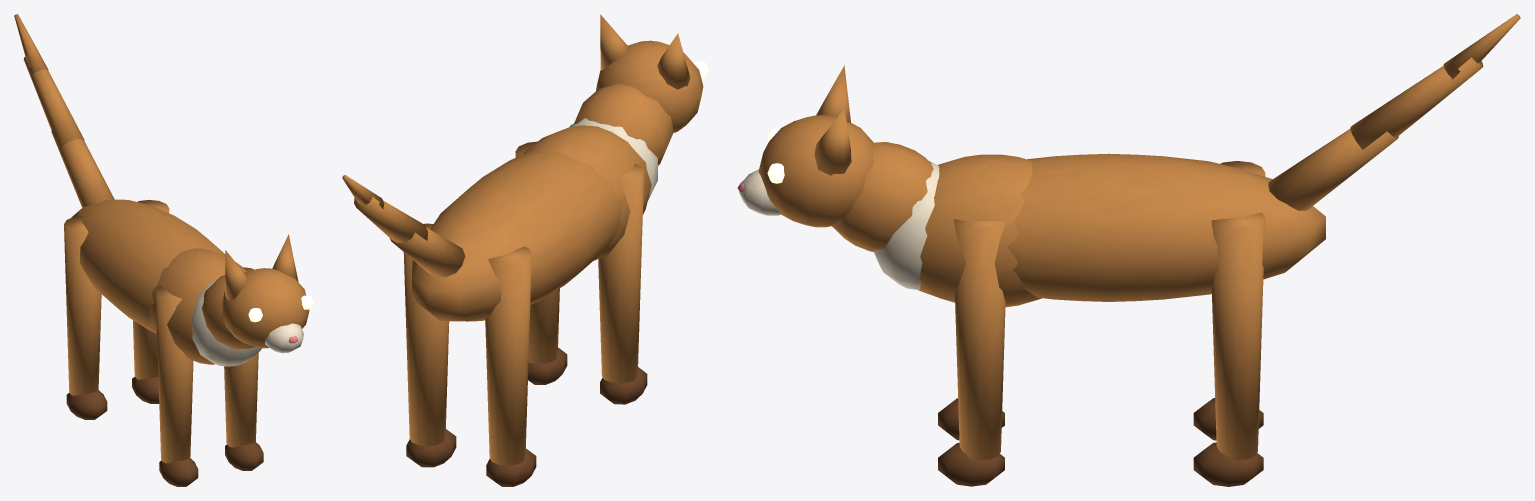
Rendered from animal_cat.glb.
3 views of the same model, side by side, from view 1: azimuth 30°, elevation 25°; view 2: azimuth 150°, elevation 25°; view 3: azimuth 270°, elevation 25° (orthographic). The views are drawn at different scales.
Visible parts, largest first — view 1: animal_cat_body, animal_cat_leg_BL, animal_cat_leg_FL, animal_cat_head, animal_cat_chest, animal_cat_leg_FR, animal_cat_tail0, animal_cat_tail1, animal_cat_ruff, animal_cat_leg_BR, animal_cat_neck, animal_cat_paw_BL (+7 smaller); view 2: animal_cat_body, animal_cat_leg_BL, animal_cat_leg_FL, animal_cat_leg_BR, animal_cat_chest, animal_cat_head, animal_cat_neck, animal_cat_leg_FR, animal_cat_tail0, animal_cat_tail1, animal_cat_ear_L, animal_cat_paw_BR (+6 smaller); view 3: animal_cat_body, animal_cat_leg_BR, animal_cat_leg_FR, animal_cat_chest, animal_cat_head, animal_cat_neck, animal_cat_tail0, animal_cat_tail1, animal_cat_ruff, animal_cat_paw_BR, animal_cat_paw_FR, animal_cat_ear_R (+3 smaller).
Boxes of the visible parts, <box> form: animal_cat_body: <box>71,199,225,332</box>; animal_cat_leg_BL: <box>64,216,101,395</box>; animal_cat_leg_FL: <box>155,286,193,463</box>; animal_cat_head: <box>221,268,309,348</box>; animal_cat_chest: <box>149,248,246,364</box>; animal_cat_leg_FR: <box>224,267,258,447</box>; animal_cat_tail0: <box>51,129,114,207</box>; animal_cat_tail1: <box>23,55,84,147</box>; animal_cat_ruff: <box>191,278,262,366</box>; animal_cat_leg_BR: <box>133,199,169,379</box>; animal_cat_neck: <box>201,272,255,348</box>; animal_cat_paw_BL: <box>66,390,107,419</box>; animal_cat_body: <box>412,151,622,321</box>; animal_cat_leg_BL: <box>485,246,531,465</box>; animal_cat_leg_FL: <box>598,163,644,383</box>; animal_cat_leg_BR: <box>403,223,449,446</box>; animal_cat_chest: <box>523,125,651,260</box>; animal_cat_head: <box>596,40,703,132</box>; animal_cat_neck: <box>574,84,673,165</box>; animal_cat_leg_FR: <box>515,141,559,363</box>; animal_cat_tail0: <box>389,227,465,277</box>; animal_cat_tail1: <box>354,196,427,242</box>; animal_cat_ear_L: <box>657,33,690,89</box>; animal_cat_paw_BR: <box>406,429,456,467</box>; animal_cat_body: <box>1007,153,1325,301</box>; animal_cat_leg_BR: <box>1211,212,1265,460</box>; animal_cat_leg_FR: <box>953,219,1005,460</box>; animal_cat_chest: <box>918,154,1041,307</box>; animal_cat_head: <box>758,115,874,227</box>; animal_cat_neck: <box>832,142,933,252</box>; animal_cat_tail0: <box>1268,128,1398,210</box>; animal_cat_tail1: <box>1350,57,1483,149</box>; animal_cat_ruff: <box>874,161,939,289</box>; animal_cat_paw_BR: <box>1193,442,1263,486</box>; animal_cat_paw_FR: <box>938,442,1004,486</box>; animal_cat_ear_R: <box>814,109,851,175</box>.
Size of the model in its own units: 0.2265 by 0.6719 by 1.07.
5 materials, 4 textured.
